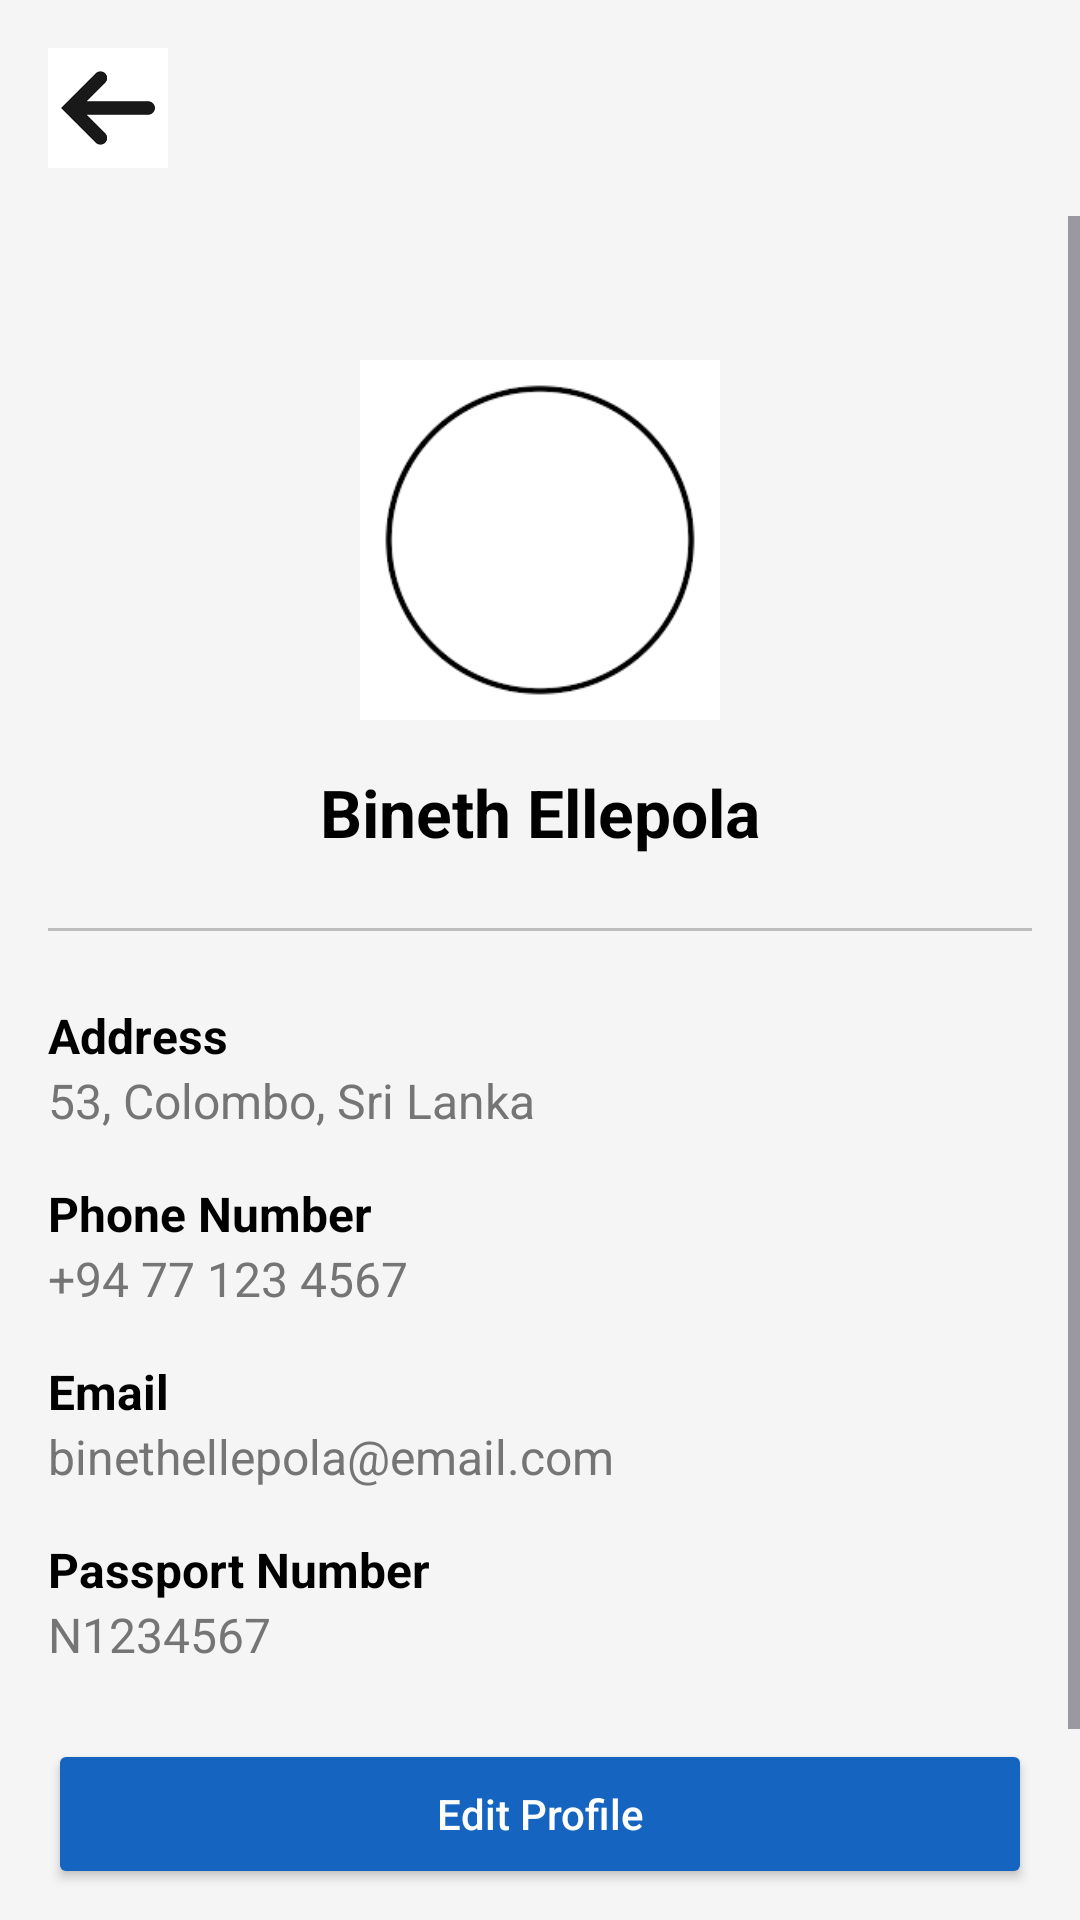

Icons on this 1080px×1920px Android screen, each with the point to tap as point (x, y):
Back: point (108, 108)
